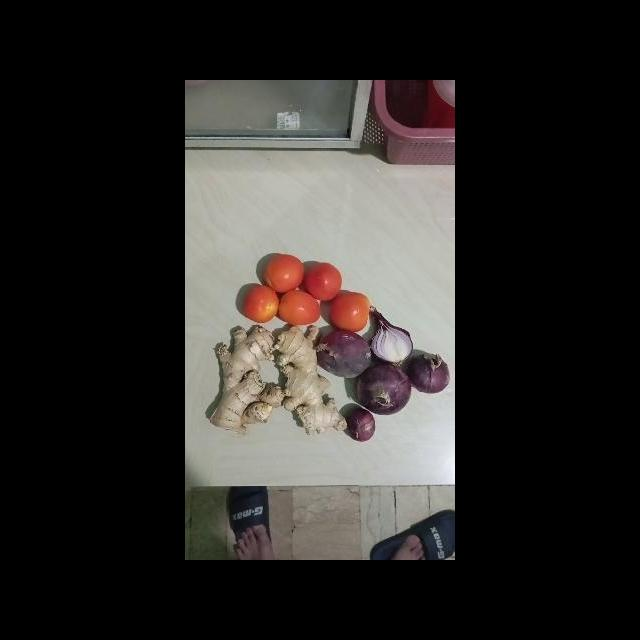ginger: (208, 325, 286, 436), (271, 324, 347, 436)
onion: (358, 366, 413, 417), (314, 327, 370, 377), (371, 307, 416, 368), (409, 351, 451, 396), (344, 405, 376, 443)
